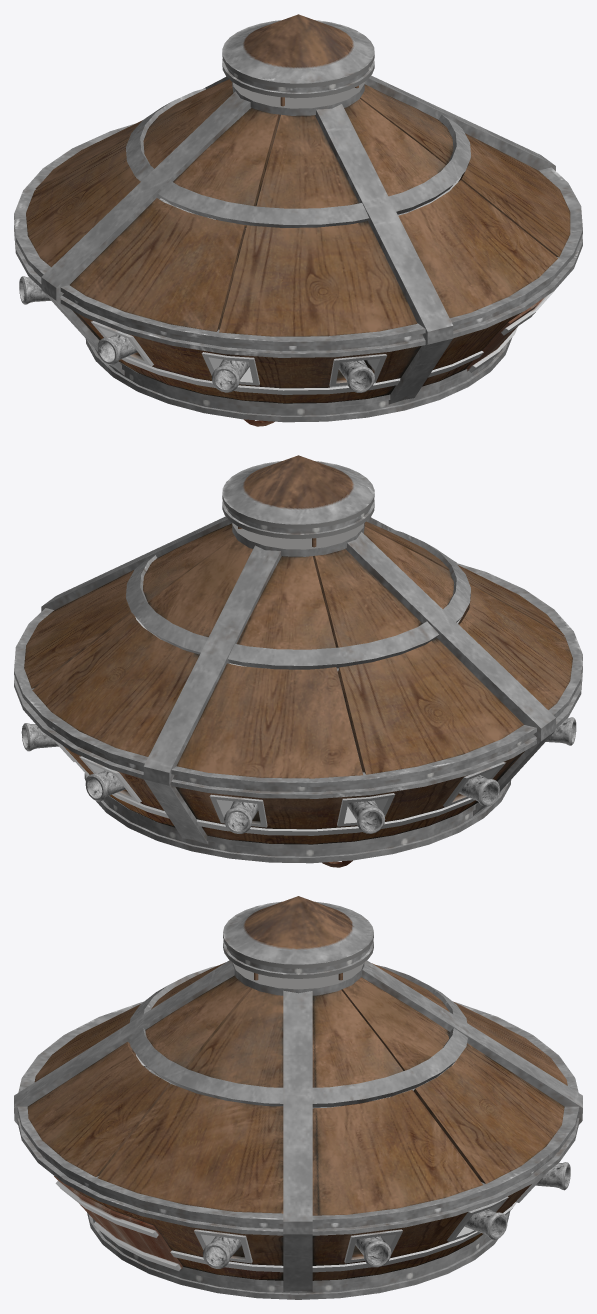
The model's file is davidtank.glb.
The picture shows the model from 3 angles, top to bottom: view 1: azimuth 30°, elevation 25°; view 2: azimuth 150°, elevation 25°; view 3: azimuth 270°, elevation 25°; orthographic projection.
Parts seen in each view (by area): view 1: wood_2_low, wood_1_low, metal_1_low, metal_3_low, wood_3_low, wood_6_low, top_low, metal_2_low, metal_4_low, wood_7_low, hole_low, canon_7_low (+3 smaller); view 2: wood_3_low, wood_4_low, metal_1_low, metal_3_low, wood_2_low, wood_5_low, top_low, metal_2_low, metal_4_low, wood_8_low, hole_low, canon_4_low (+5 smaller); view 3: wood_1_low, wood_4_low, metal_1_low, metal_3_low, top_low, metal_2_low, wood_7_low, metal_4_low, wood_8_low, wood_3_low, wood_2_low, hole_low (+4 smaller).
Boxes of the visible parts, <box> form: wood_2_low: <box>69,107,417,336</box>; wood_1_low: <box>344,84,570,317</box>; metal_1_low: <box>41,75,555,404</box>; metal_3_low: <box>14,123,582,357</box>; wood_3_low: <box>26,79,233,267</box>; wood_6_low: <box>72,310,421,403</box>; top_low: <box>222,14,374,97</box>; metal_2_low: <box>126,88,470,227</box>; metal_4_low: <box>85,337,512,422</box>; wood_7_low: <box>422,290,554,386</box>; hole_low: <box>232,82,364,143</box>; canon_7_low: <box>211,359,249,392</box>; wood_3_low: <box>176,549,523,778</box>; wood_4_low: <box>24,523,252,756</box>; metal_1_low: <box>41,516,555,844</box>; metal_3_low: <box>14,563,582,798</box>; wood_2_low: <box>363,521,572,709</box>; wood_5_low: <box>175,751,524,844</box>; top_low: <box>222,455,374,538</box>; metal_2_low: <box>126,529,470,669</box>; metal_4_low: <box>84,666,511,863</box>; wood_8_low: <box>51,738,175,827</box>; hole_low: <box>232,523,364,565</box>; canon_4_low: <box>347,800,385,833</box>; wood_1_low: <box>27,975,283,1213</box>; wood_4_low: <box>312,977,564,1215</box>; metal_1_low: <box>14,960,582,1291</box>; metal_3_low: <box>17,1001,579,1235</box>; top_low: <box>223,896,373,978</box>; metal_2_low: <box>129,965,467,1107</box>; wood_7_low: <box>54,1176,283,1280</box>; metal_4_low: <box>87,1107,510,1299</box>; wood_8_low: <box>312,1172,547,1280</box>; wood_3_low: <box>372,963,567,1085</box>; wood_2_low: <box>34,962,225,1081</box>; hole_low: <box>232,963,364,995</box>.
Bounding box in the file's own units: 0.1012 × 0.0682 × 0.1008.
Materials: 2 (2 with a texture image).
